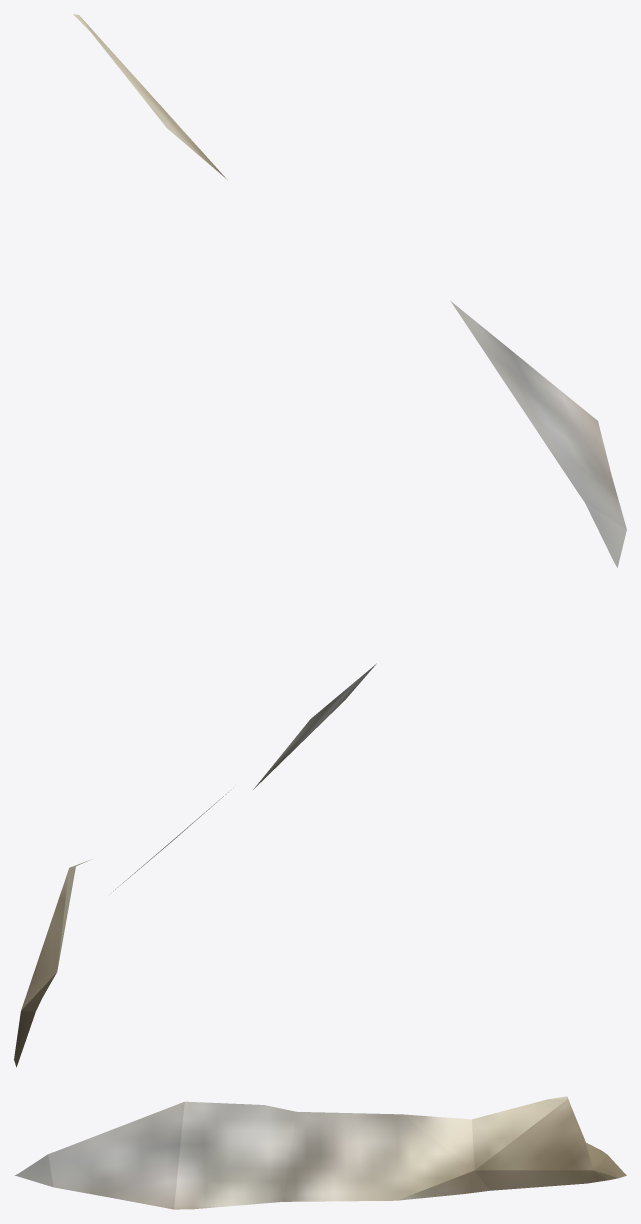
3 renders of one model, top to bottom at view 1: azimuth 30°, elevation 25°; view 2: azimuth 150°, elevation 25°; view 3: azimuth 270°, elevation 25°, orthographic. The views are drawn at different scales.
Bounding box in the file's own units: 0.07 × 0.0763 × 0.5347.
Materials: 1 (1 with a texture image).
